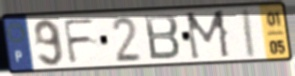2: (109, 15, 143, 65)
9: (32, 17, 65, 68)
B: (142, 13, 182, 62)
F: (61, 16, 99, 66)
I: (241, 6, 258, 61)
M: (184, 8, 233, 62)
